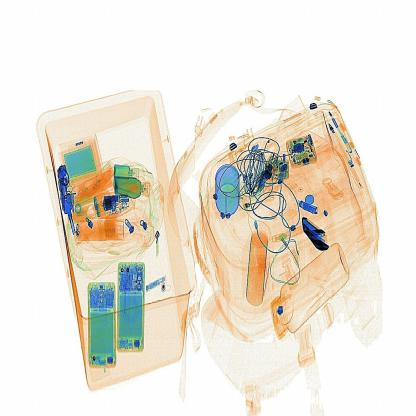pliers: (296, 209, 346, 263)
